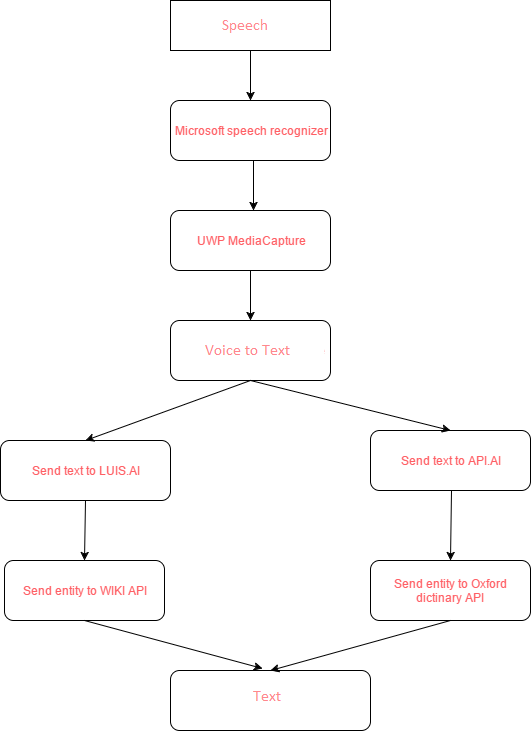arrow: (249, 378, 454, 433), (77, 381, 247, 441), (86, 620, 267, 669), (268, 621, 449, 665), (443, 488, 456, 560), (244, 267, 258, 320), (79, 498, 90, 559), (245, 53, 258, 99), (248, 163, 258, 210)
process: (167, 666, 374, 731), (1, 436, 175, 505), (1, 555, 168, 624), (166, 206, 334, 274), (366, 426, 531, 494), (167, 97, 334, 164), (166, 317, 335, 383), (366, 556, 531, 623), (166, 1, 335, 54)
text: (393, 574, 513, 607), (19, 581, 150, 603), (173, 123, 330, 139), (195, 234, 309, 250), (202, 341, 295, 359), (29, 464, 144, 478), (398, 453, 505, 468), (219, 18, 270, 35), (250, 687, 285, 707)
